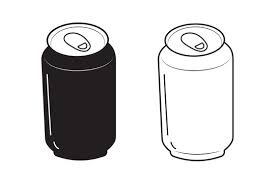can: (158, 22, 234, 162), (41, 22, 117, 160)
